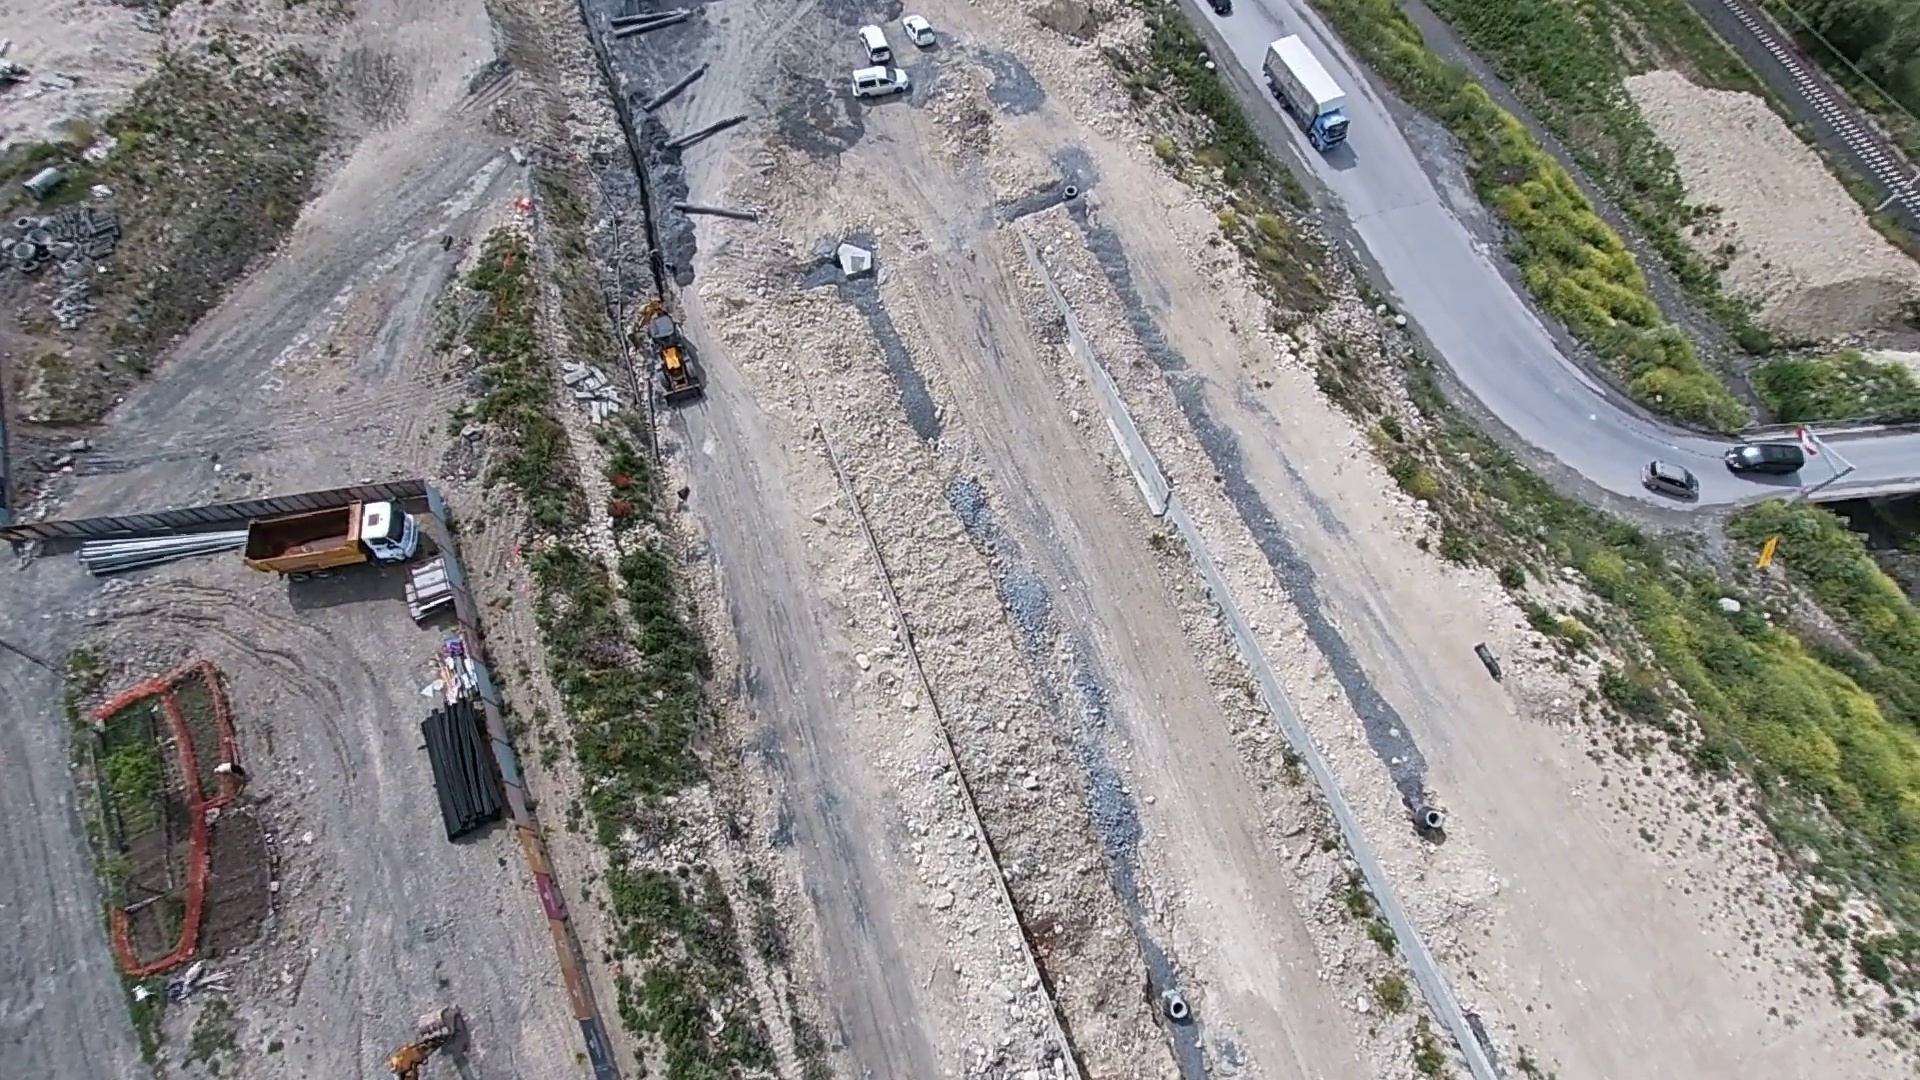arac: (240, 491, 418, 582), (1253, 26, 1364, 158), (622, 285, 713, 407), (1729, 433, 1807, 480), (1636, 458, 1706, 506), (847, 61, 911, 105), (853, 21, 897, 75), (901, 7, 934, 59)
